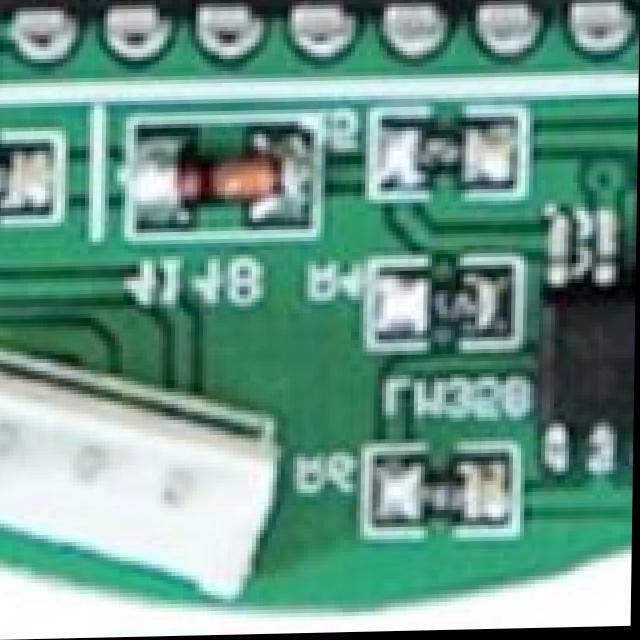IC: (0, 0, 640, 52), (551, 253, 637, 454)
connector: (0, 379, 292, 576)
diode: (145, 139, 310, 217)
resistor: (404, 265, 499, 333), (394, 465, 512, 517), (406, 133, 500, 177), (0, 151, 42, 204)
